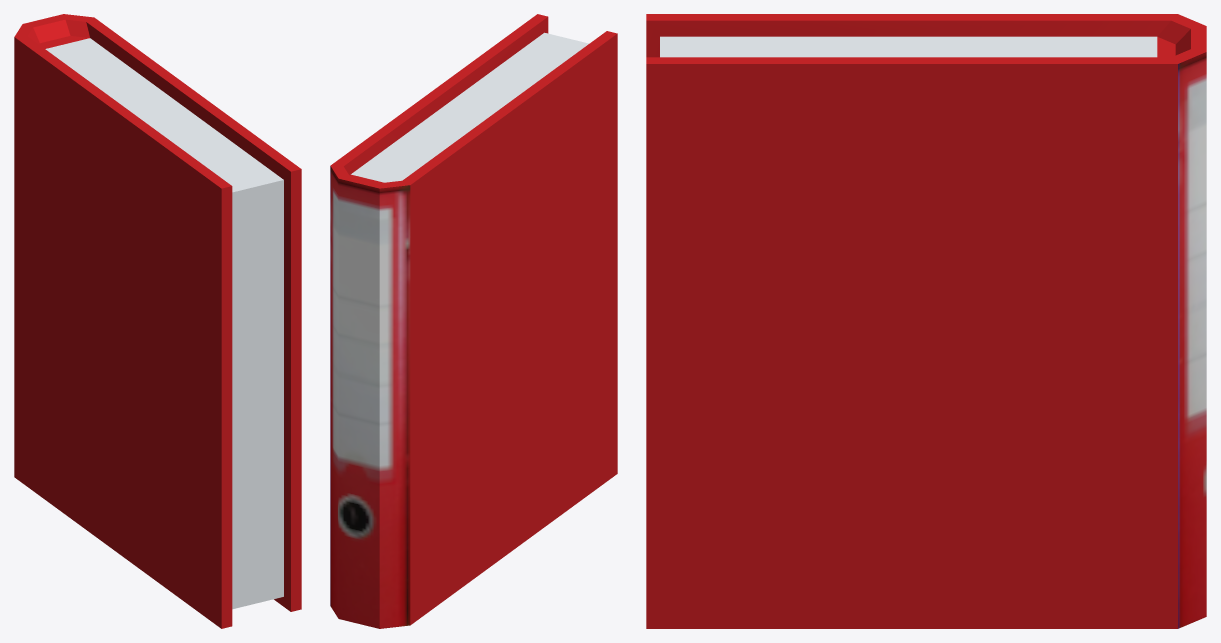
The model's file is FolderBigRed.fbx.
3 renders of one model, left to right at view 1: azimuth 30°, elevation 25°; view 2: azimuth 150°, elevation 25°; view 3: azimuth 270°, elevation 25°, orthographic. The views are drawn at different scales.
Visible parts, largest first — view 1: FolderBigRed; view 2: FolderBigRed; view 3: FolderBigRed.
Part boxes in pixels (x1,y1,x2,y2): FolderBigRed: [14, 14, 301, 628]; FolderBigRed: [330, 14, 617, 628]; FolderBigRed: [646, 14, 1206, 628].
Size of the model in its own units: 8.41 by 44.24 by 39.78.
